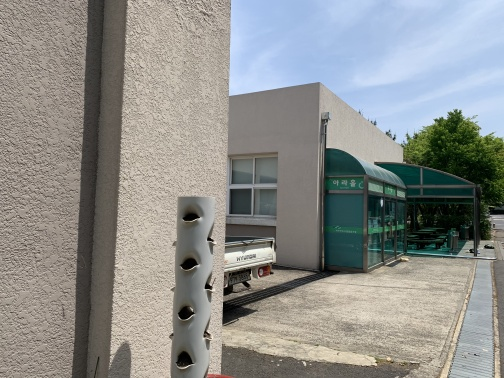Ara Hall: (245, 95, 479, 277)
